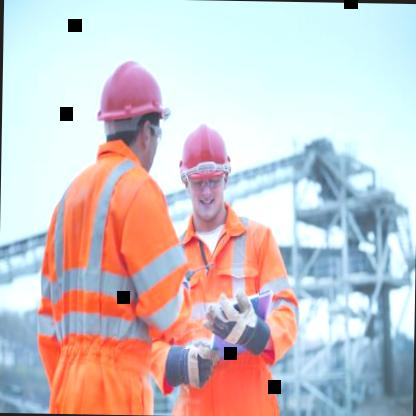helmet: (91, 46, 174, 177), (172, 117, 240, 230)
